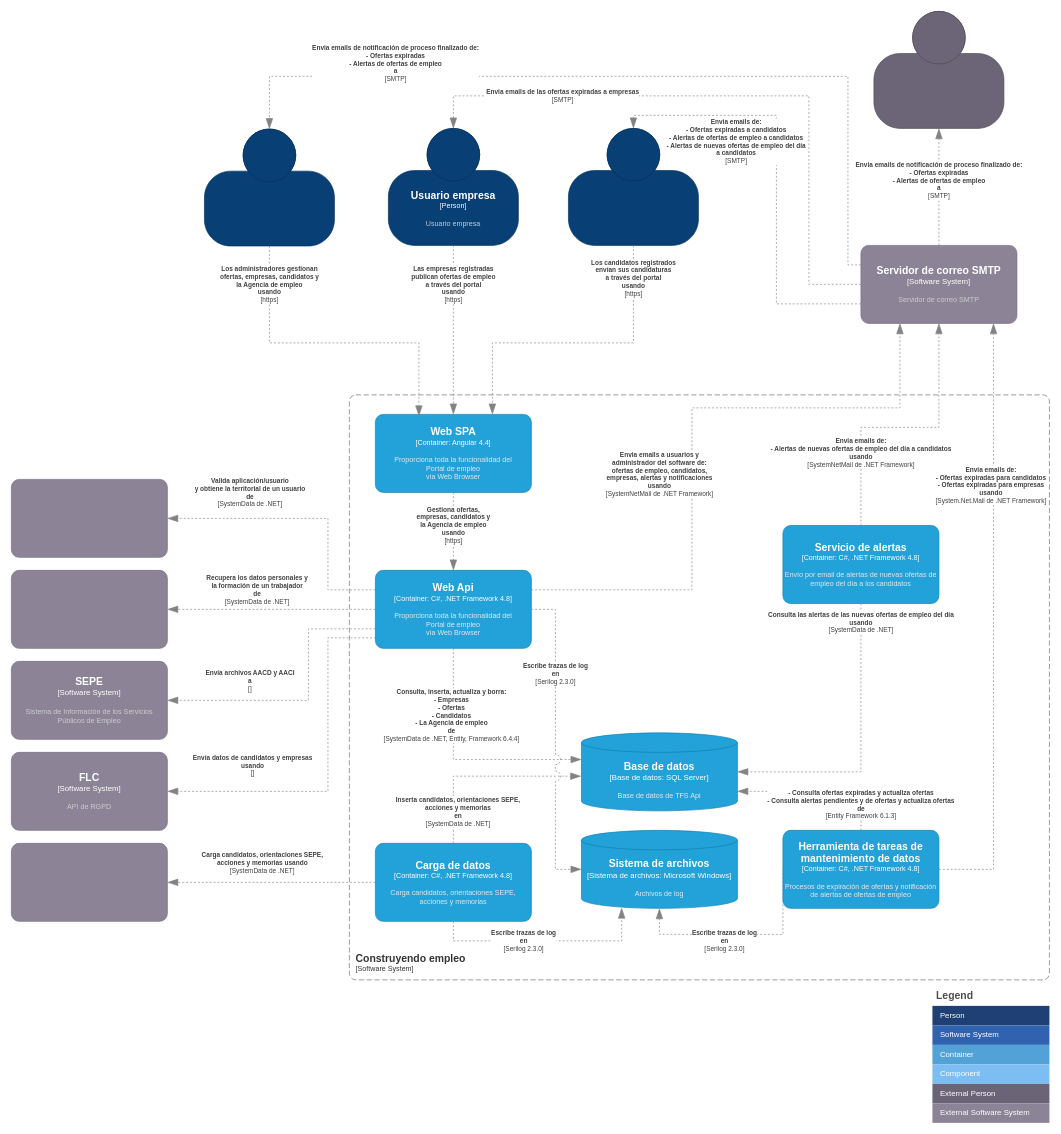
Image size: 1061x1134. Some labels were removed from this diagram. Here are the shapes that lost their labels. From the top down, the centre of each, then its label:
the point at 938,69: Administrador [Person] Administrador del Software
the point at 269,187: Usuario administrador [Person] Usuario administrador
the point at 633,186: Usuario candidato [Person] Usuario candidato
the point at 89,518: Base de datos [Software System] Base de datos de Portal del empleado
the point at 89,609: Base de datos [Software System] Base de datos de Trabajo en construcción
the point at 89,882: Base de datos [Software System] Base de datos AgenciaEmpleo de SEPE
